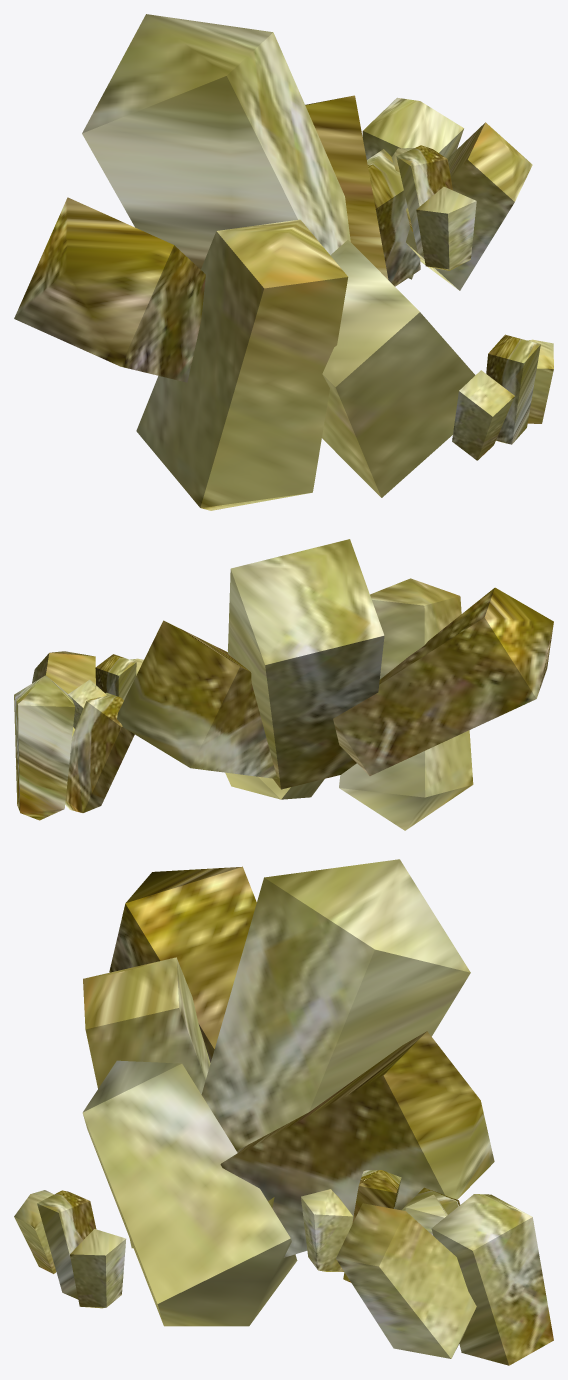
The model's file is dujvshi_4.fbx.
3 views of the same model, one above another, from view 1: azimuth 30°, elevation 25°; view 2: azimuth 150°, elevation 25°; view 3: azimuth 270°, elevation 25° (orthographic). The views are drawn at different scales.
Parts seen in each view (by area): view 1: polySurface51; view 2: polySurface51; view 3: polySurface51.
Boxes of the visible parts, left/top/right/bottom form: polySurface51: left=14, top=14, right=553, bottom=510; polySurface51: left=14, top=539, right=553, bottom=830; polySurface51: left=14, top=859, right=553, bottom=1365.
Bounding box in the file's own units: 78.45 × 53.2 × 63.08.
